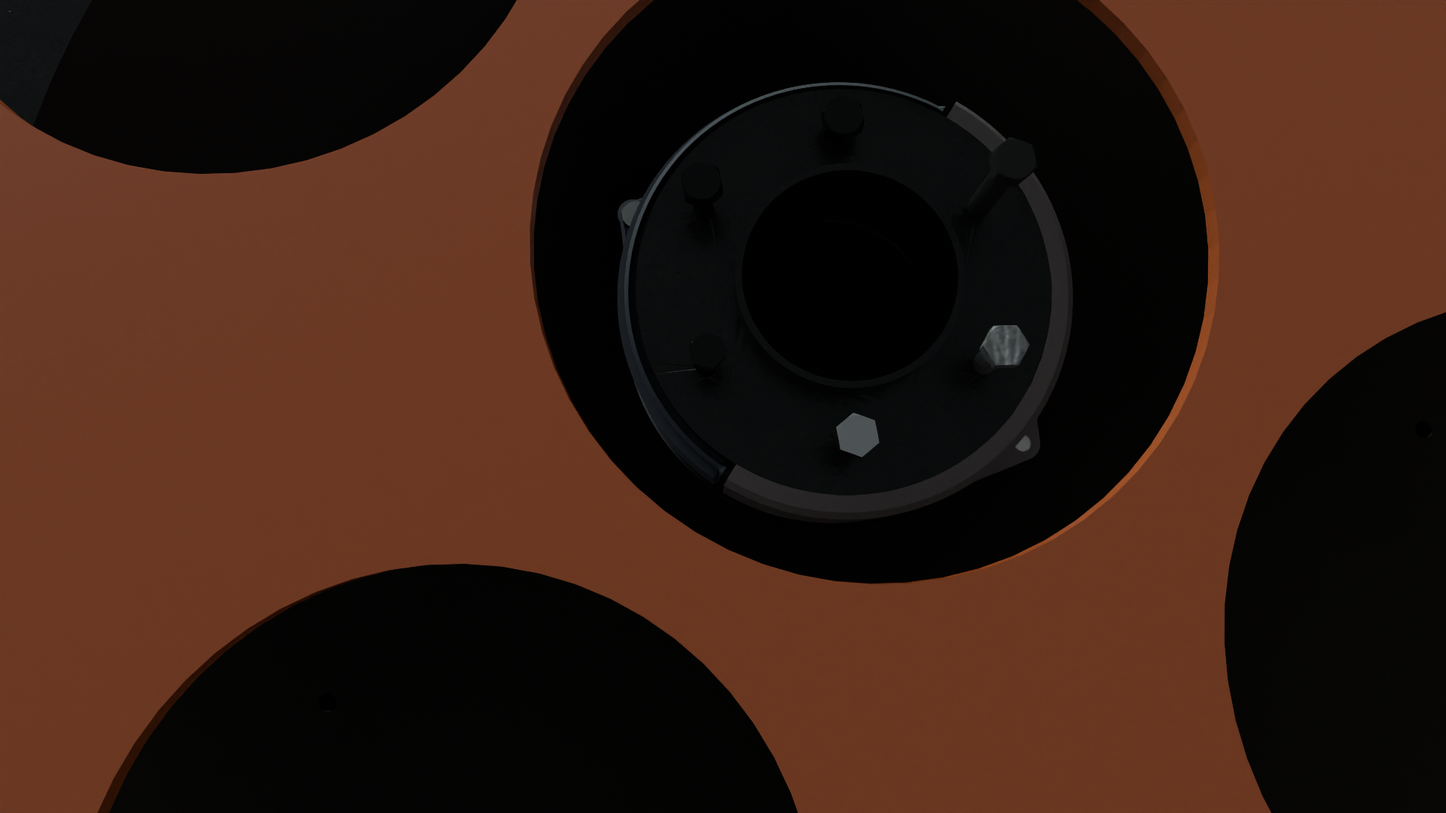bolt: (993, 137, 1037, 181), (836, 413, 879, 457), (983, 325, 1030, 365), (822, 96, 864, 138), (681, 162, 723, 203), (689, 332, 726, 369)
